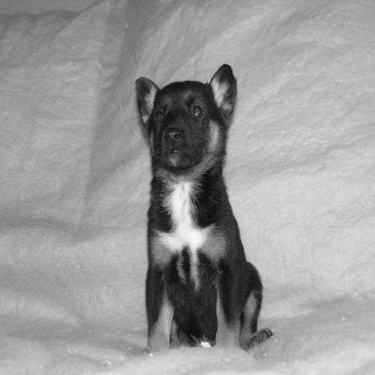dog: (111, 52, 276, 359)
